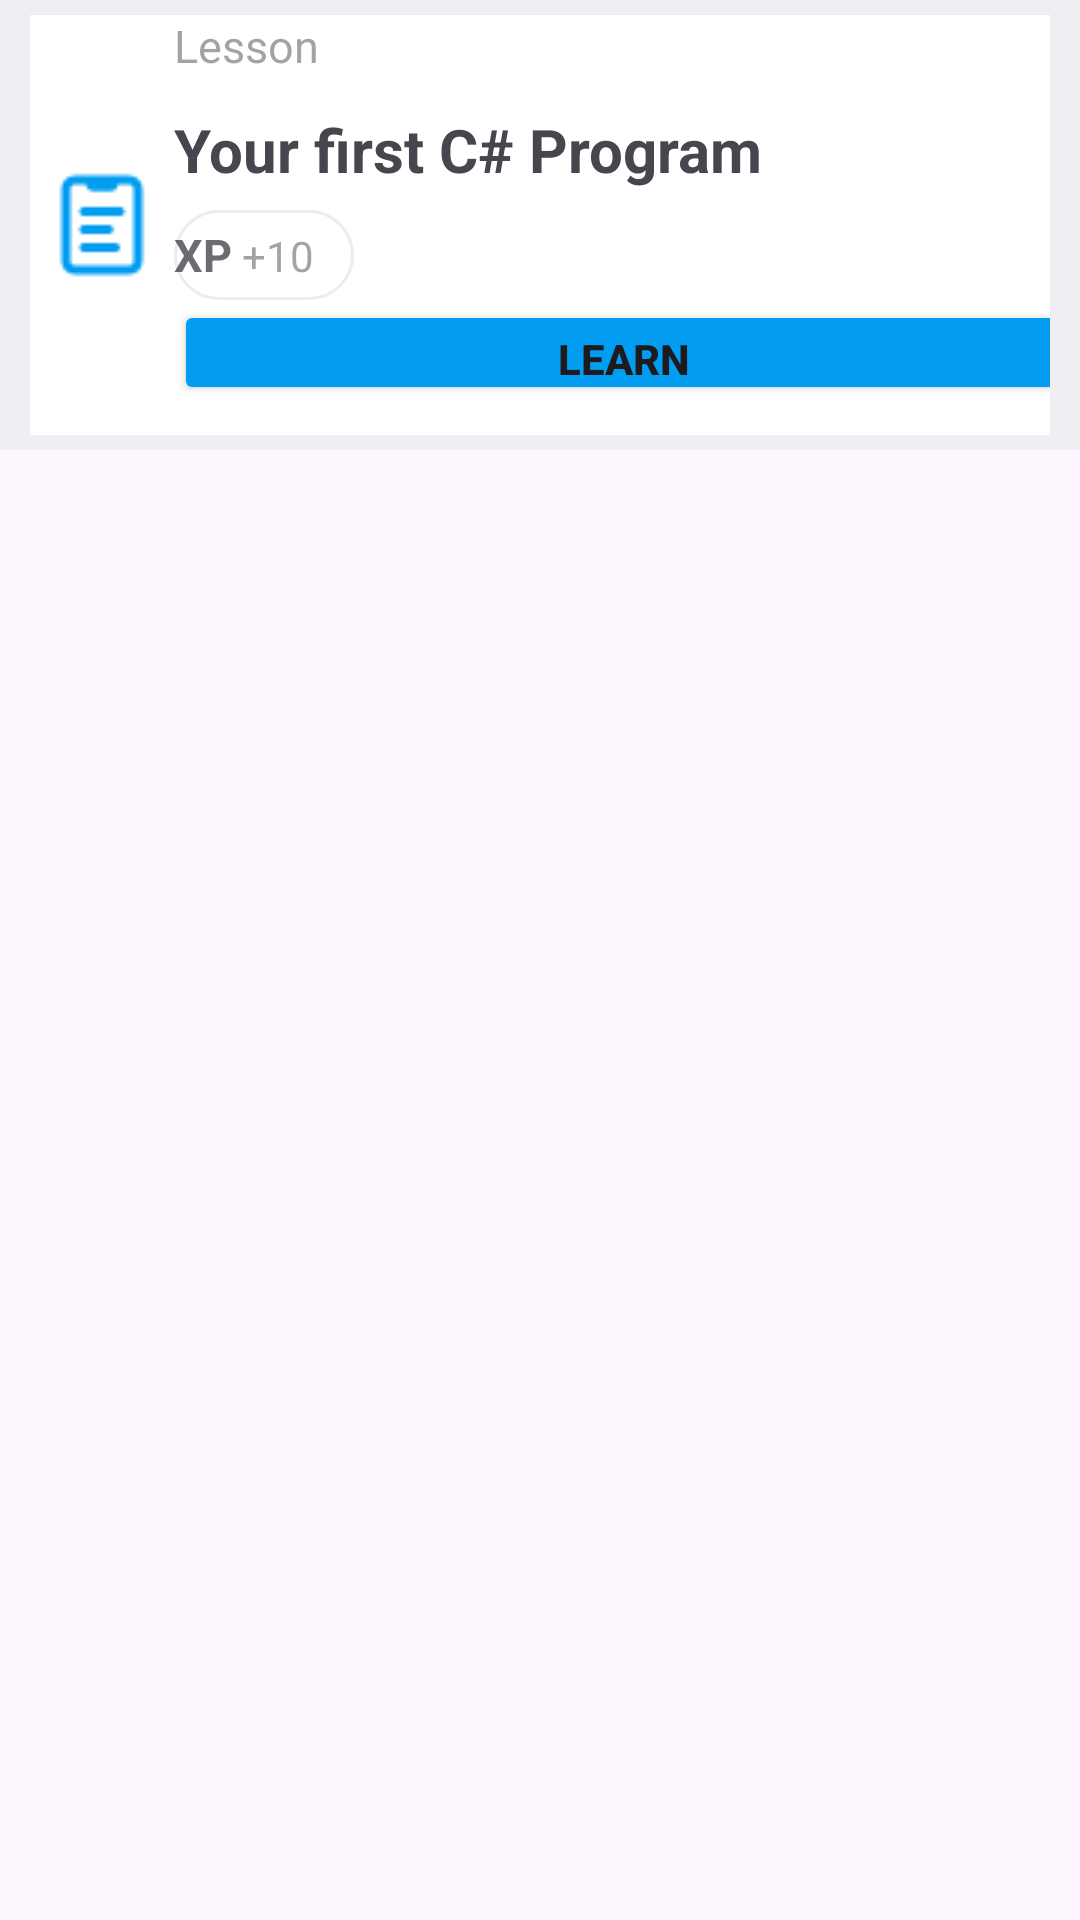

Named icons in this screenshot (1080*1920) and their centers, (x,y):
task: (102,225)
